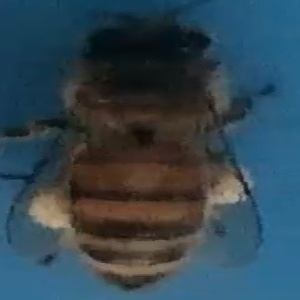bee: (12, 8, 285, 292)
